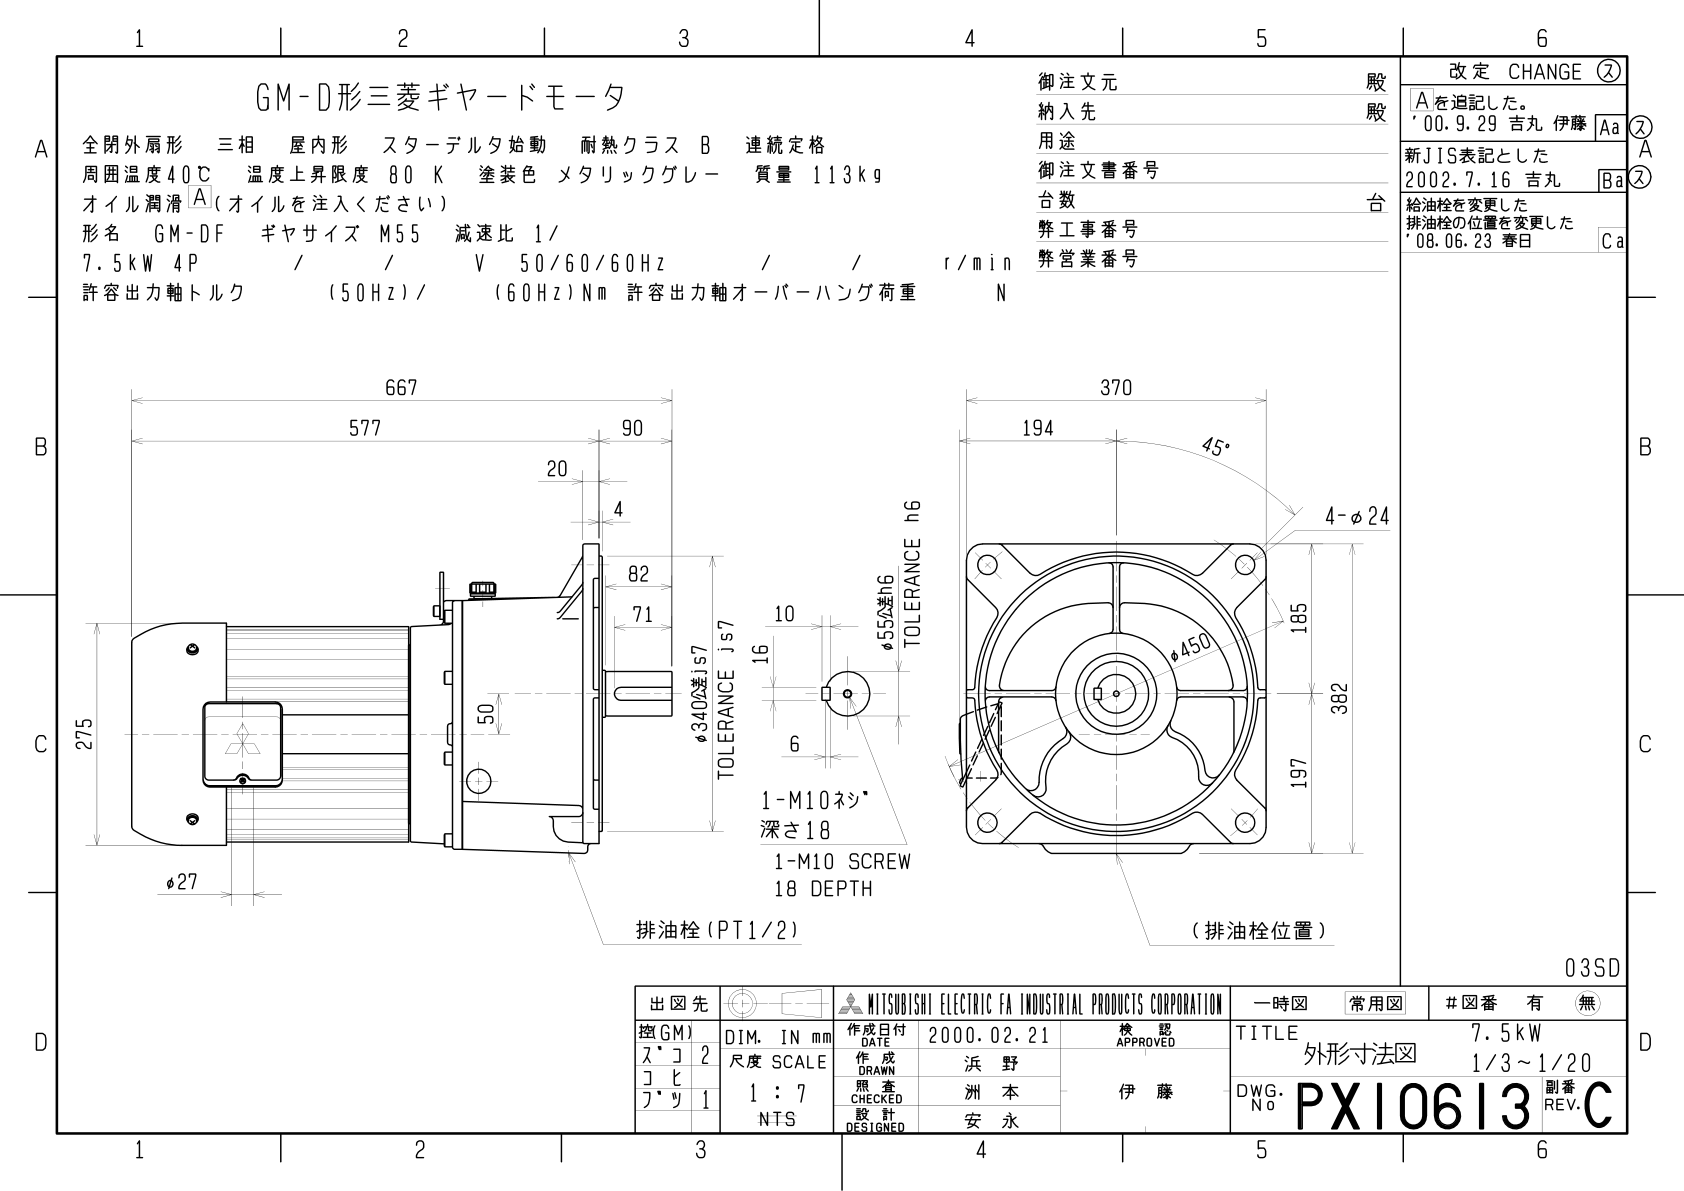GM_D_屋内＿三相_フランジ: (64, 311, 1395, 965)
